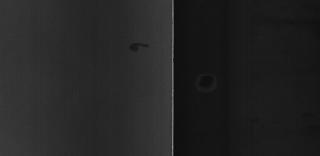oil spot: (126, 40, 156, 57)
